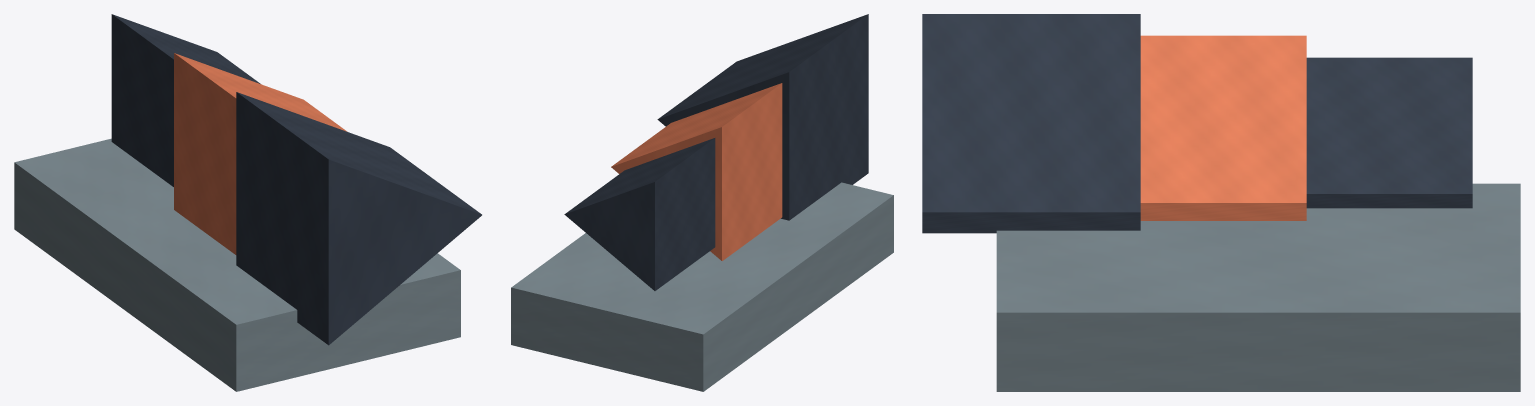
Rendered from atlas100-s024-a05.lod2.glb.
The picture shows the model from 3 angles, left to right: view 1: azimuth 30°, elevation 25°; view 2: azimuth 150°, elevation 25°; view 3: azimuth 270°, elevation 25°; orthographic projection. The views are drawn at different scales.
Parts seen in each view (by area): view 1: atlas100-s024-a05:part-004, atlas100-s024-a05:part-002, atlas100-s024-a05:part-001, atlas100-s024-a05:part-000; view 2: atlas100-s024-a05:part-004, atlas100-s024-a05:part-002, atlas100-s024-a05:part-000, atlas100-s024-a05:part-001; view 3: atlas100-s024-a05:part-004, atlas100-s024-a05:part-002, atlas100-s024-a05:part-001, atlas100-s024-a05:part-000.
Boxes of the visible parts, x1,y1,x2,y2 form: atlas100-s024-a05:part-004: [14, 138, 460, 391]; atlas100-s024-a05:part-002: [236, 92, 481, 345]; atlas100-s024-a05:part-001: [174, 53, 347, 254]; atlas100-s024-a05:part-000: [111, 14, 260, 186]; atlas100-s024-a05:part-004: [511, 182, 893, 391]; atlas100-s024-a05:part-002: [657, 14, 868, 220]; atlas100-s024-a05:part-000: [564, 138, 715, 290]; atlas100-s024-a05:part-001: [611, 83, 782, 260]; atlas100-s024-a05:part-004: [996, 183, 1520, 391]; atlas100-s024-a05:part-002: [922, 14, 1140, 233]; atlas100-s024-a05:part-001: [1140, 35, 1306, 220]; atlas100-s024-a05:part-000: [1306, 57, 1472, 208].
Size of the model in its own units: 0.3822 by 0.3916 by 0.748.
3 materials, 3 textured.
